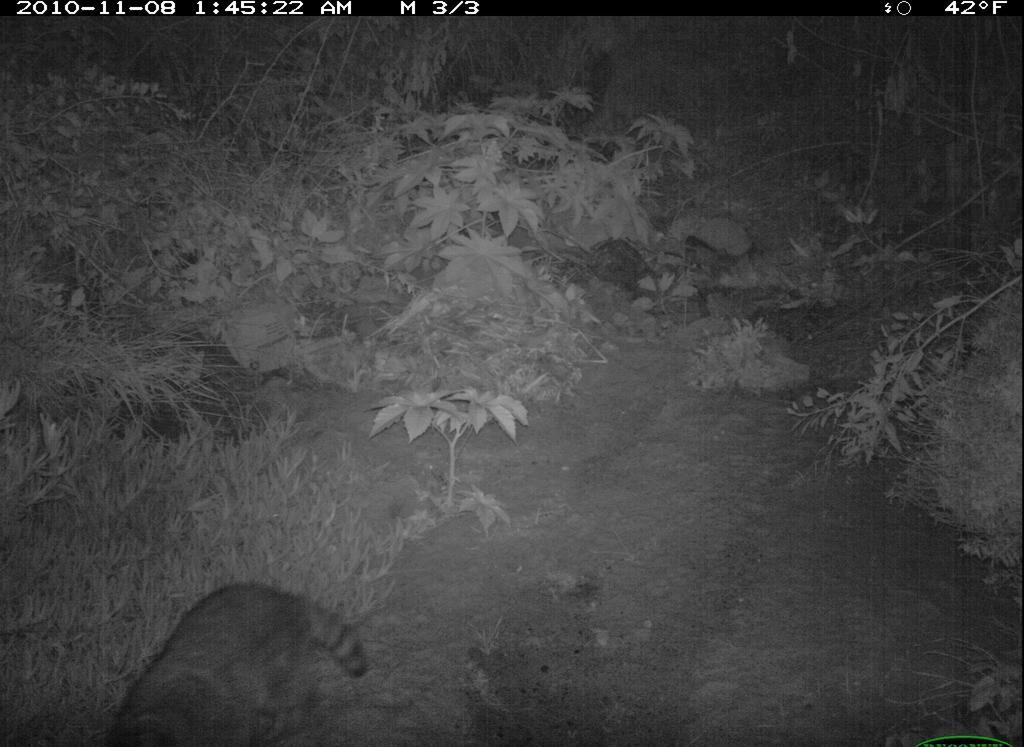raccoon: (89, 530, 405, 745)
